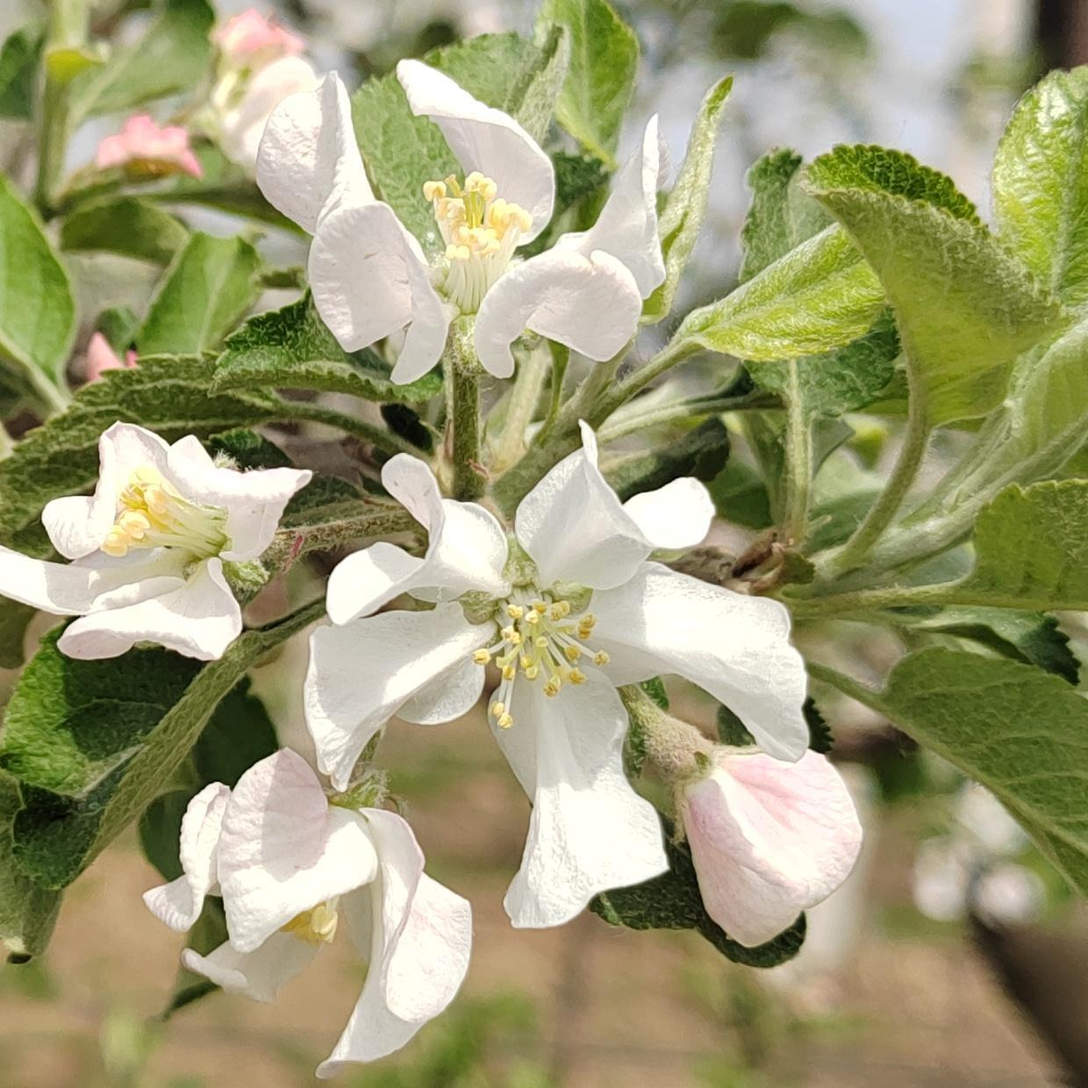apple_flower: (168, 58, 853, 1061), (0, 422, 310, 660)
